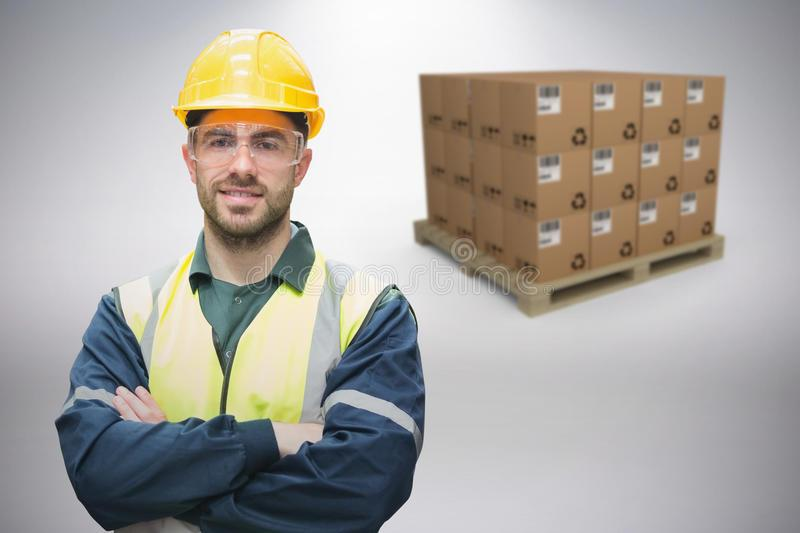helmet: (171, 28, 322, 139)
